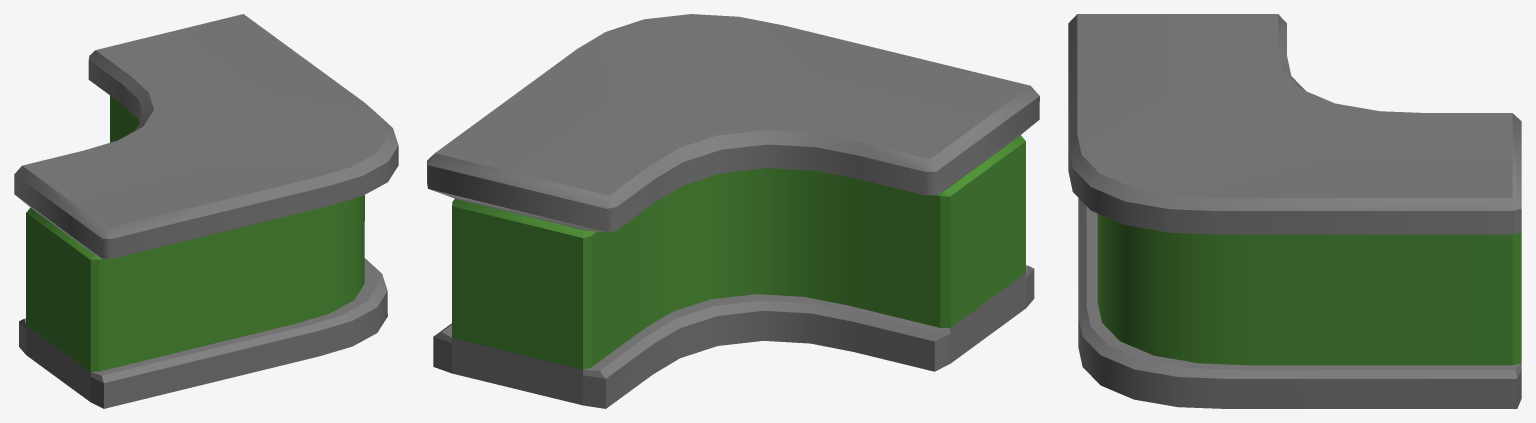
The model's file is BrickWall_2_1.fbx.
3 views of the same model, side by side, from view 1: azimuth 30°, elevation 25°; view 2: azimuth 150°, elevation 25°; view 3: azimuth 270°, elevation 25° (orthographic). The views are drawn at different scales.
Parts seen in each view (by area): view 1: BrickWall_2_1; view 2: BrickWall_2_1; view 3: BrickWall_2_1.
Part boxes in pixels (box(x1,y1,x2,y2)): BrickWall_2_1: box(14, 14, 398, 408); BrickWall_2_1: box(427, 14, 1039, 408); BrickWall_2_1: box(1068, 14, 1521, 408).
Bounding box in the file's own units: 132 × 67.83 × 132.
